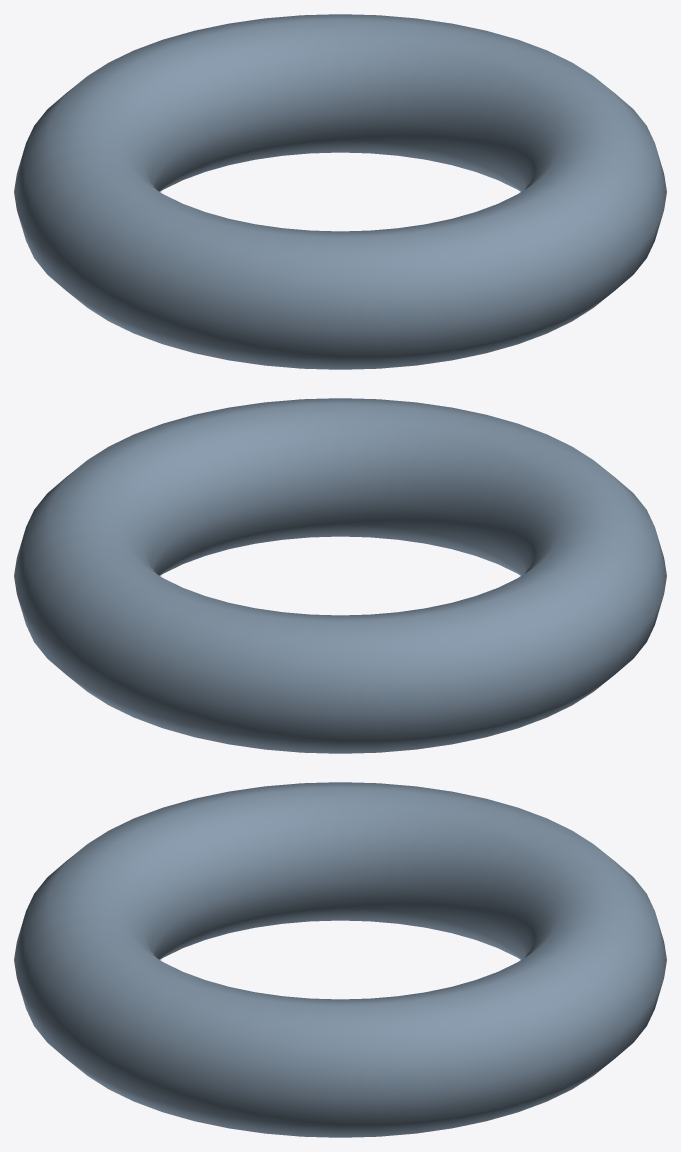
Rendered from ring_v5.glb.
3 views of the same model, one above another, from view 1: azimuth 30°, elevation 25°; view 2: azimuth 150°, elevation 25°; view 3: azimuth 270°, elevation 25° (orthographic).
Visible parts, largest first — view 1: RUNE_BAND_PRIMARY; view 2: RUNE_BAND_PRIMARY; view 3: RUNE_BAND_PRIMARY.
Boxes of the visible parts, x1,y1,x2,y2 form: RUNE_BAND_PRIMARY: (14, 14, 666, 369); RUNE_BAND_PRIMARY: (14, 398, 666, 753); RUNE_BAND_PRIMARY: (14, 782, 666, 1137).
Bounding box in the file's own units: 1.88 × 0.4 × 1.88.
